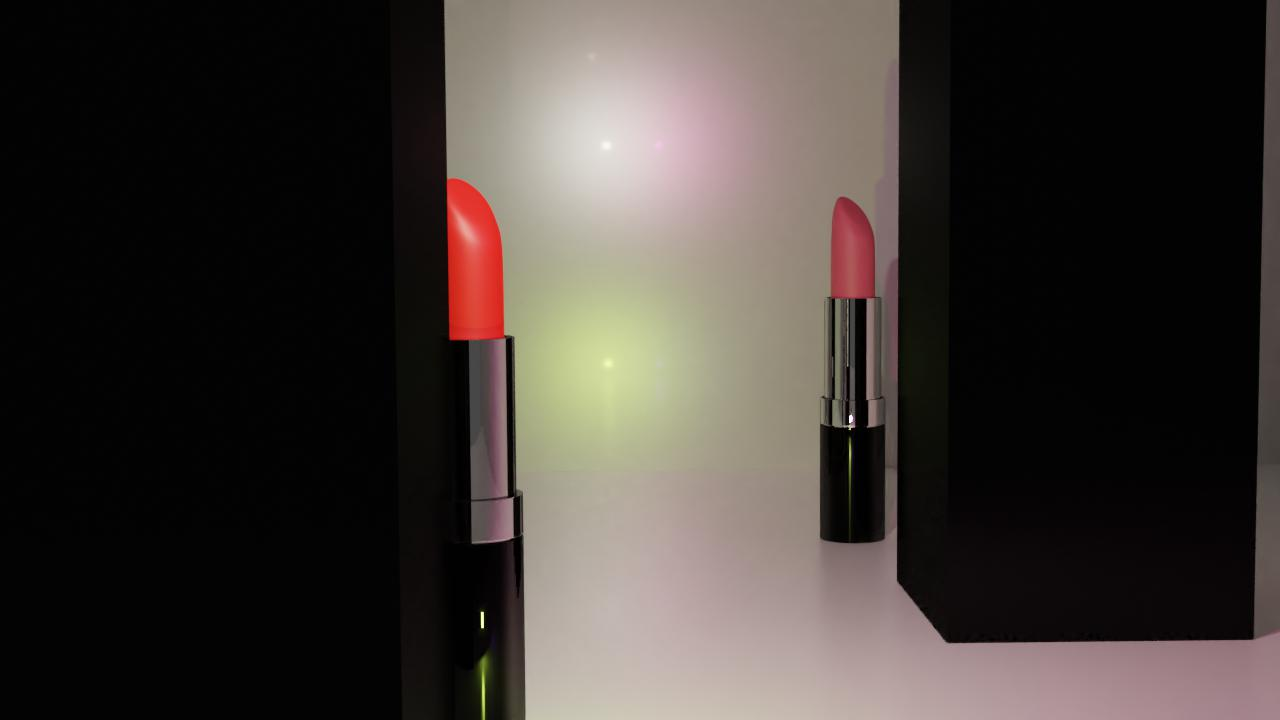CLASSIFIER_NAME: (418, 171, 527, 720), (819, 192, 887, 548)
